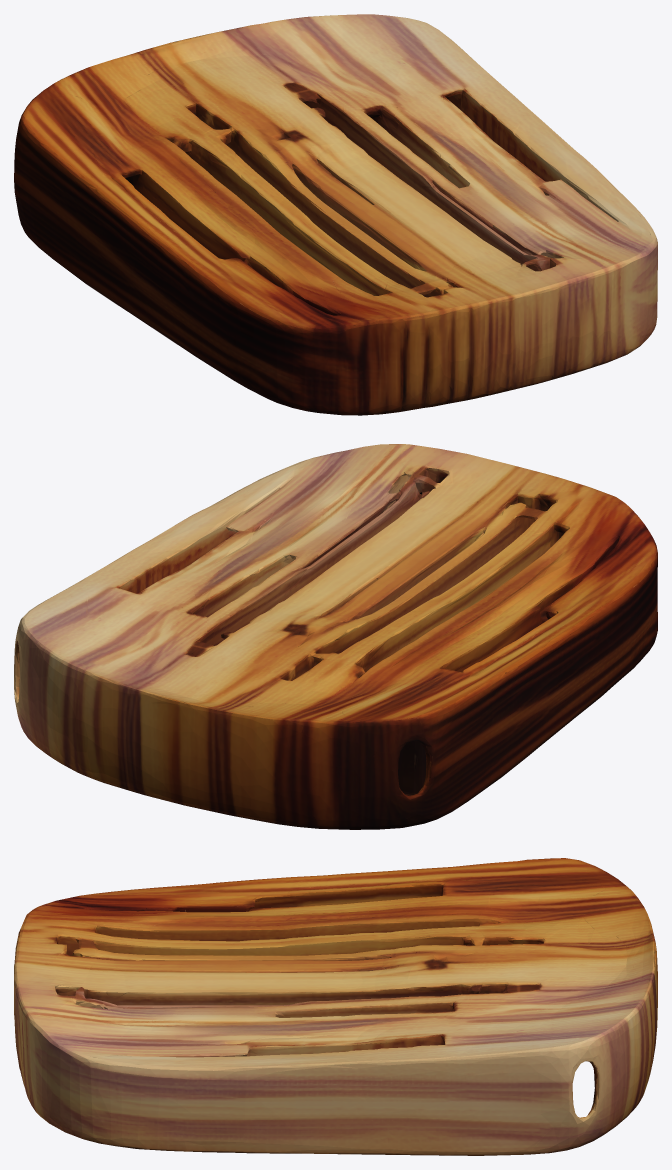
The model's file is wooden-comb-dune.jpeg.glb.
The picture shows the model from 3 angles, top to bottom: view 1: azimuth 30°, elevation 25°; view 2: azimuth 150°, elevation 25°; view 3: azimuth 270°, elevation 25°; orthographic projection. The views are drawn at different scales.
Visible parts, largest first — view 1: world; view 2: world; view 3: world.
Part boxes in pixels (x1,y1,x2,y2): world: (14, 14, 657, 415); world: (14, 444, 657, 829); world: (14, 858, 657, 1155).
Size of the model in its own units: 0.7202 by 0.1867 by 0.999.
Materials: 1 (1 with a texture image).
